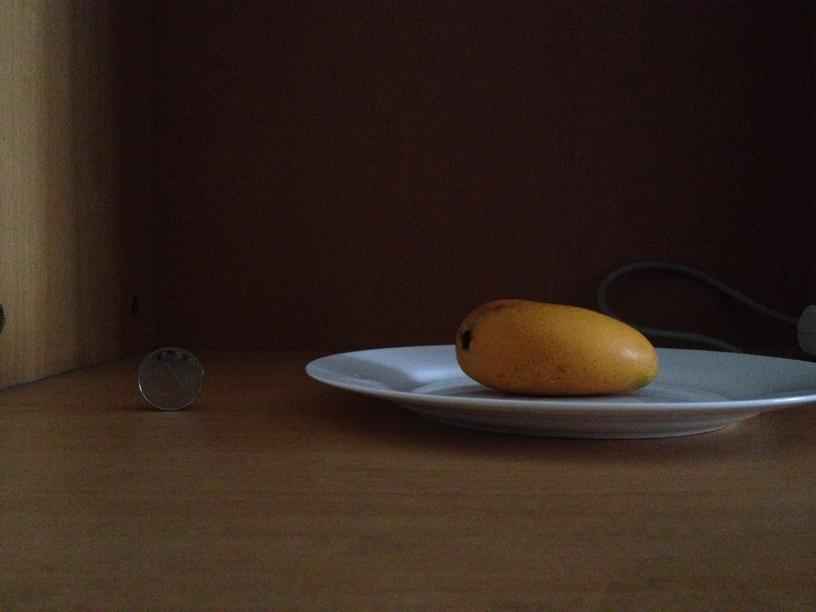coin: (132, 348, 205, 410)
mango: (452, 295, 659, 394)
